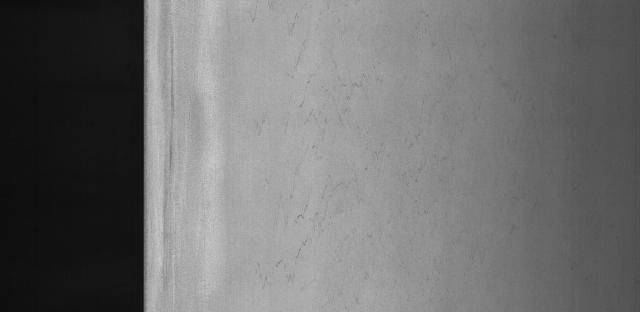silk_spot: (261, 0, 413, 297)
